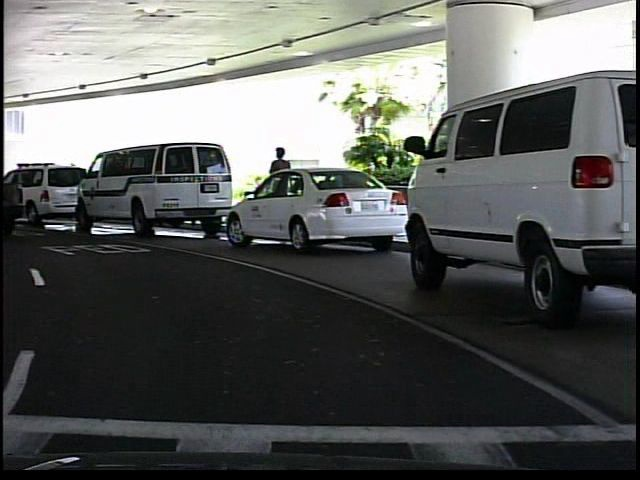person: (265, 144, 294, 228)
